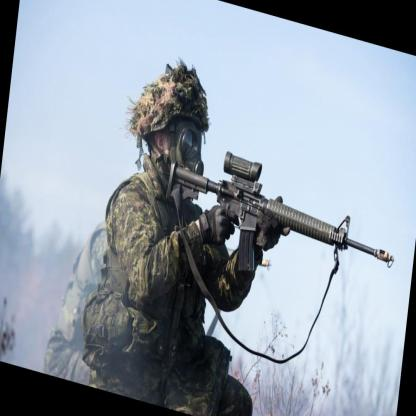rifle: (158, 142, 400, 314)
